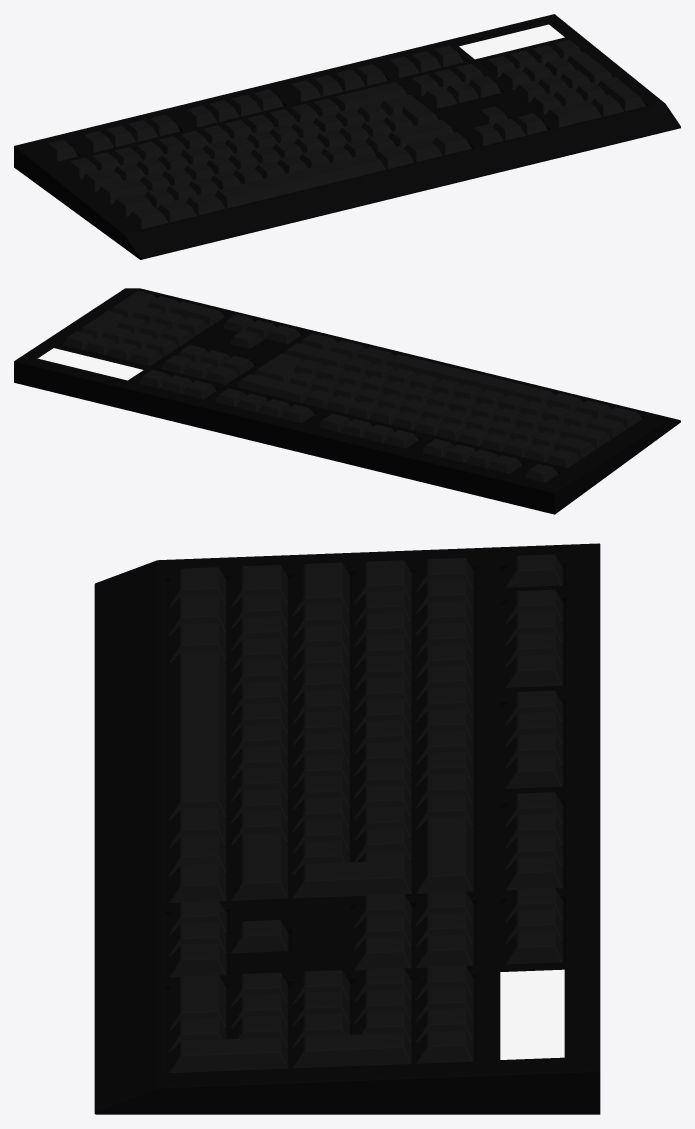
Rendered from keyboard.glb.
3 views of the same model, one above another, from view 1: azimuth 30°, elevation 25°; view 2: azimuth 150°, elevation 25°; view 3: azimuth 270°, elevation 25° (orthographic). The views are drawn at different scales.
Visible parts, largest first — view 1: KEYs, BOARD; view 2: KEYs, BOARD; view 3: KEYs, BOARD.
Boxes of the visible parts, left/top/right/bottom form: KEYs: left=44, top=39, right=645, bottom=229; BOARD: left=14, top=14, right=680, bottom=259; KEYs: left=62, top=290, right=642, bottom=482; BOARD: left=14, top=288, right=680, bottom=514; KEYs: left=168, top=554, right=562, bottom=1072; BOARD: left=94, top=543, right=600, bottom=1114.
Bounding box in the file's own units: 0.3584 × 0.0173 × 0.1452.
Materials: 6 (2 with a texture image).
